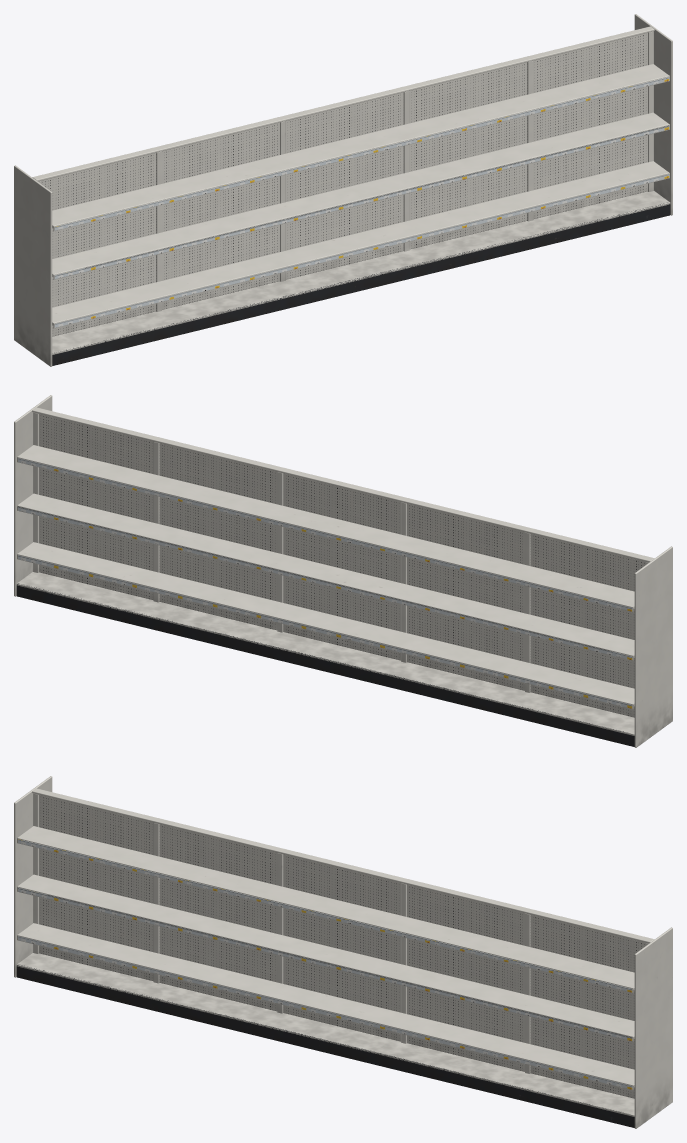
File: SM_Shelf.glb
3 renders of one model, top to bottom at view 1: azimuth 30°, elevation 25°; view 2: azimuth 150°, elevation 25°; view 3: azimuth 330°, elevation 25°, orthographic.
Parts seen in each view (by area): view 1: SM_Shelf; view 2: SM_Shelf; view 3: SM_Shelf.
Boxes of the visible parts, x1,y1,x2,y2 form: SM_Shelf: (14,14,672,366); SM_Shelf: (14,395,672,747); SM_Shelf: (14,776,672,1128).
Bounding box in the file's own units: 6.04 × 1.62 × 0.624.
5 materials, 5 textured.
